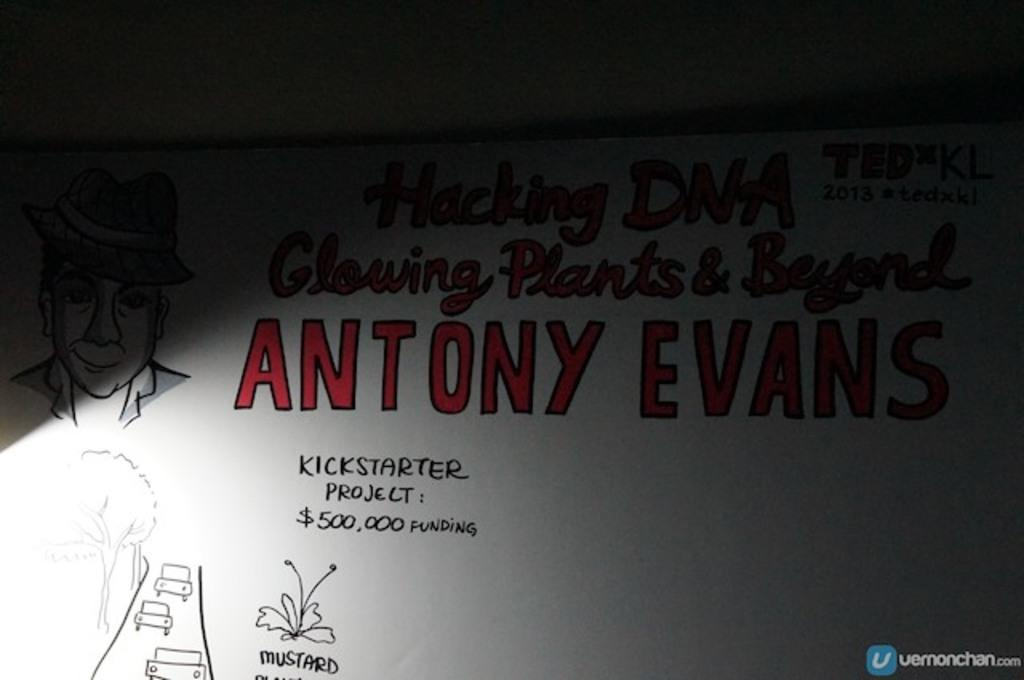Hat: (24, 165, 196, 285)
